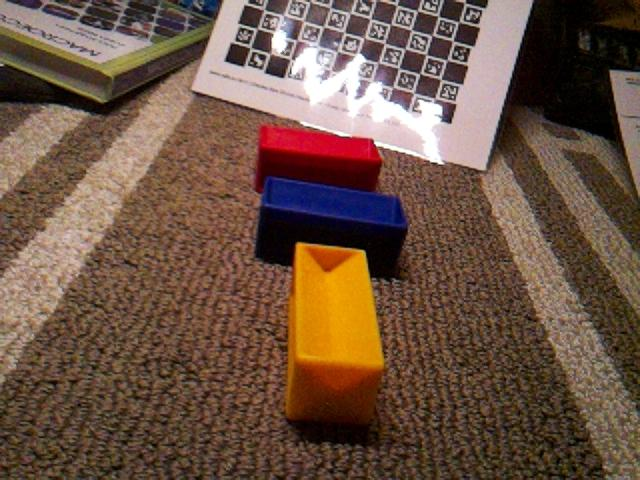blue: (253, 174, 410, 278)
red: (253, 123, 384, 194)
yellow: (284, 240, 386, 428)
